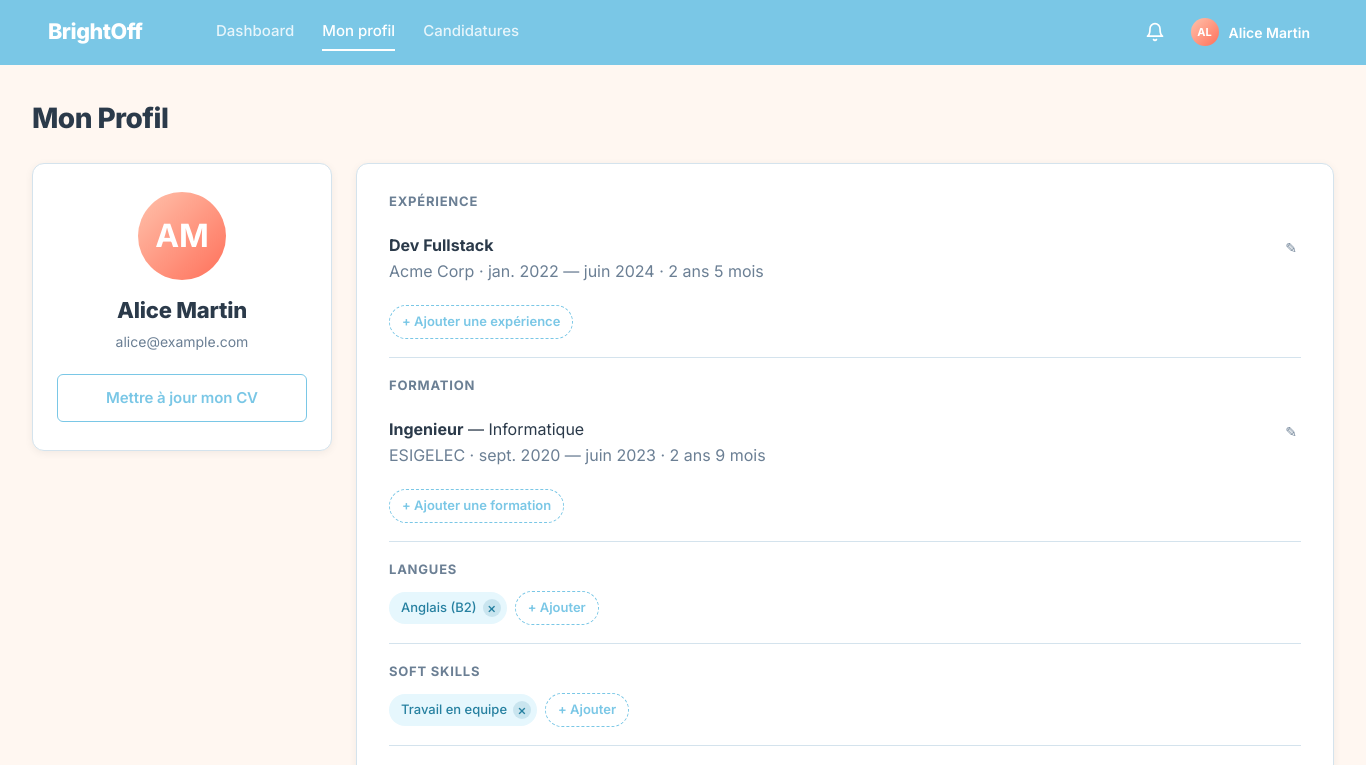
Scenario: ProfilePage › removes_language_chip_and_shows_error_toast_when_put_fails
This screenshot has width=1366, height=765.
Expected: the heading "Langues" is shown, [389,560,457,576]
Ordre dans le DOM : experience [0], formation [1], langues [2], soft [3], hard [4]
Click the button "+ Ajouter" next to "B2". click: (557, 608)
box: [515,591,599,624]
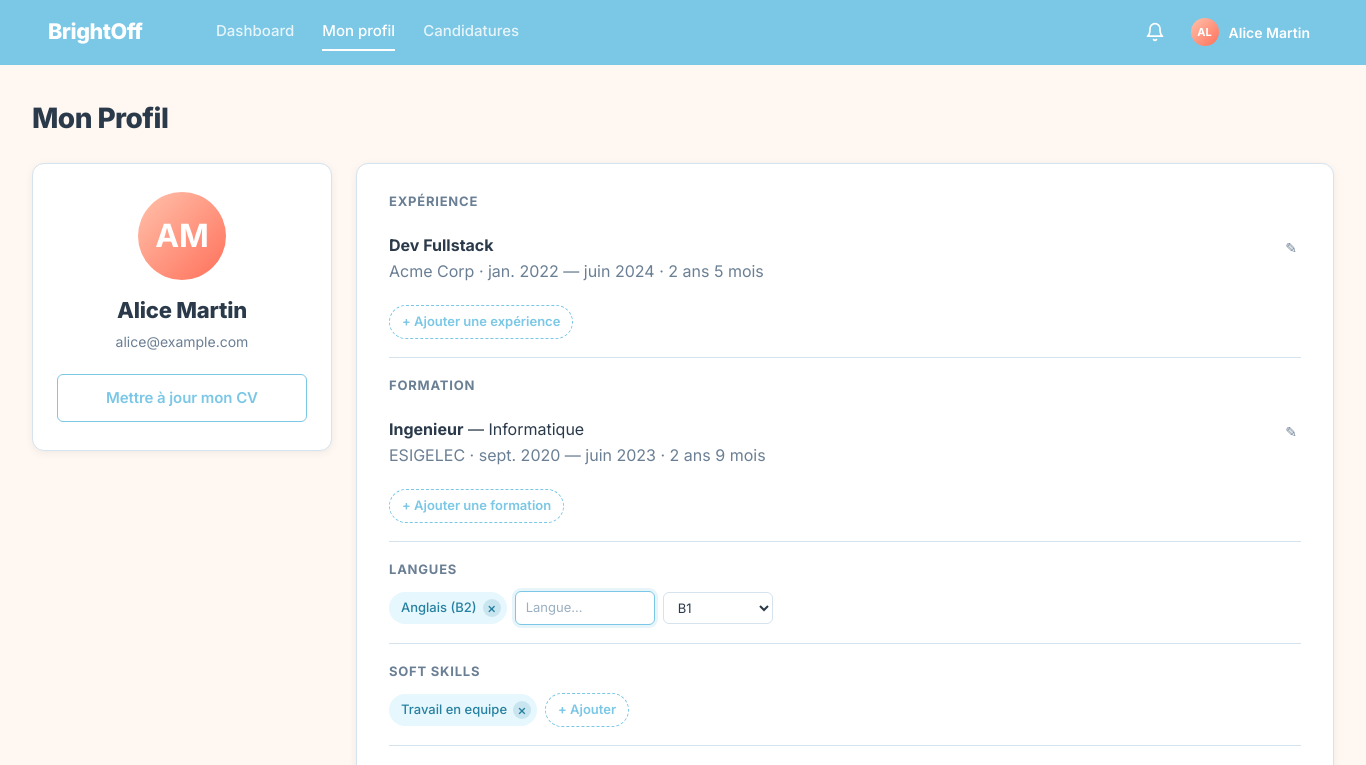
Type "Arabe" into the field with placeholder "Langue...". click: (585, 608)
box: [515,591,655,624]
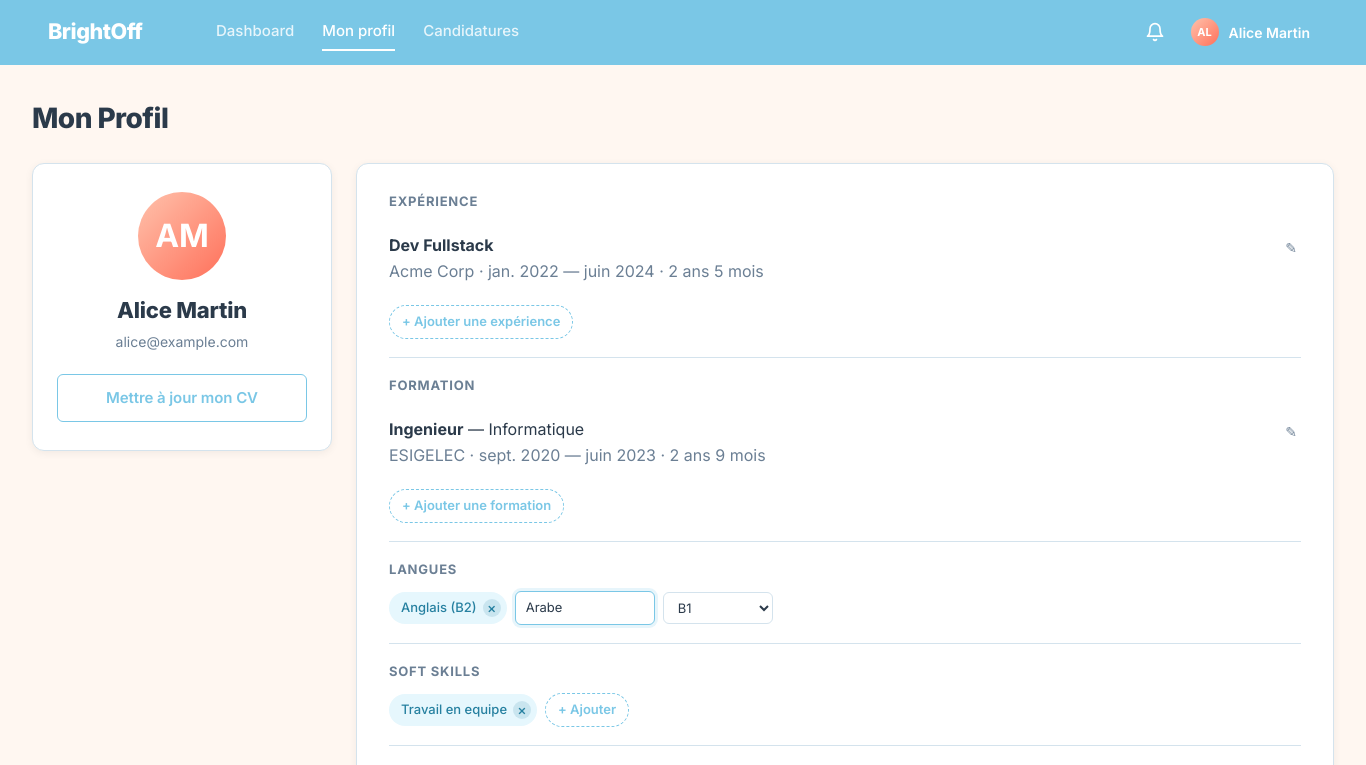
Press Enter
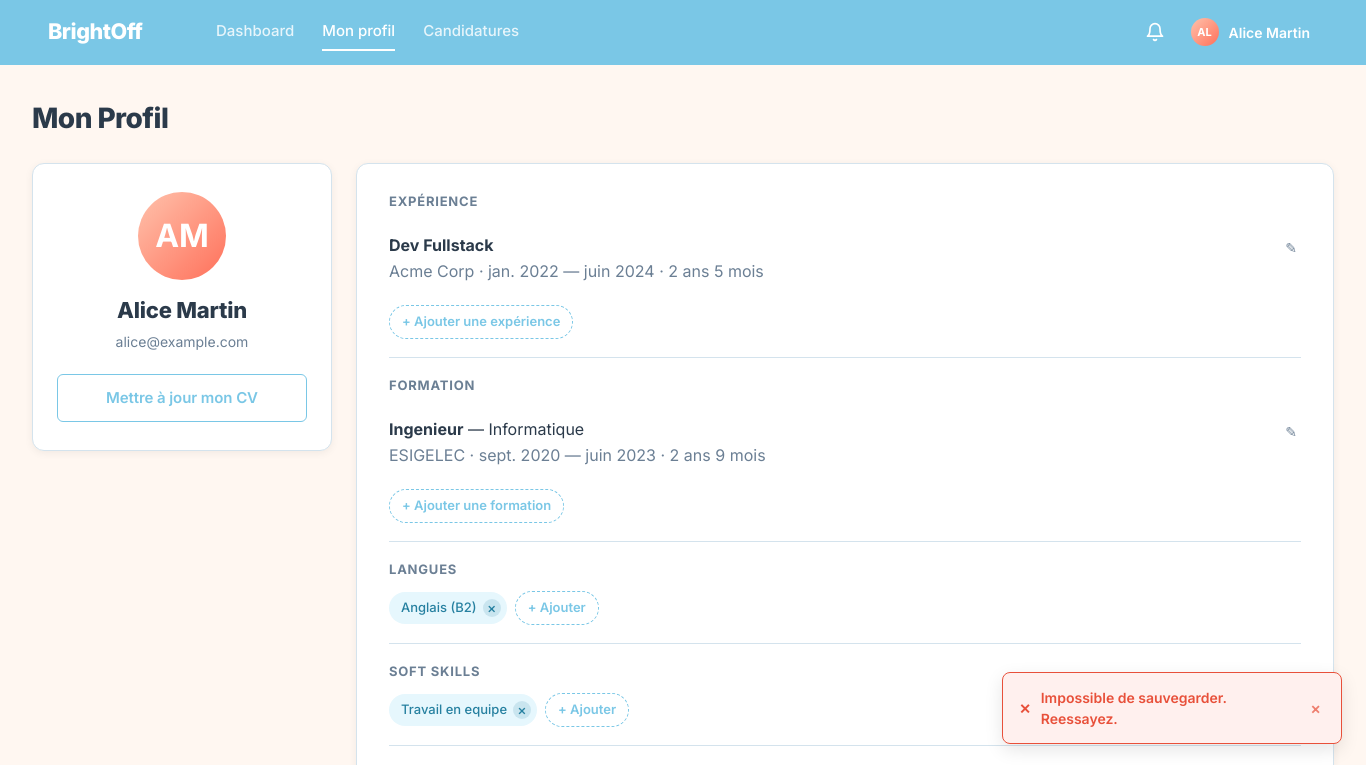
Expected: the text "arabe" is not shown
Expected: the message shows "Impossible de sauvegarder", [1041,689,1227,727]
